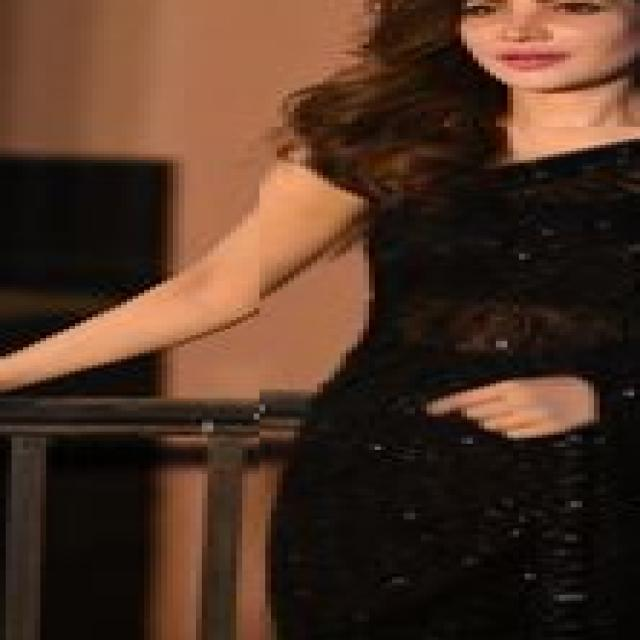Saree: (259, 127, 640, 640)
